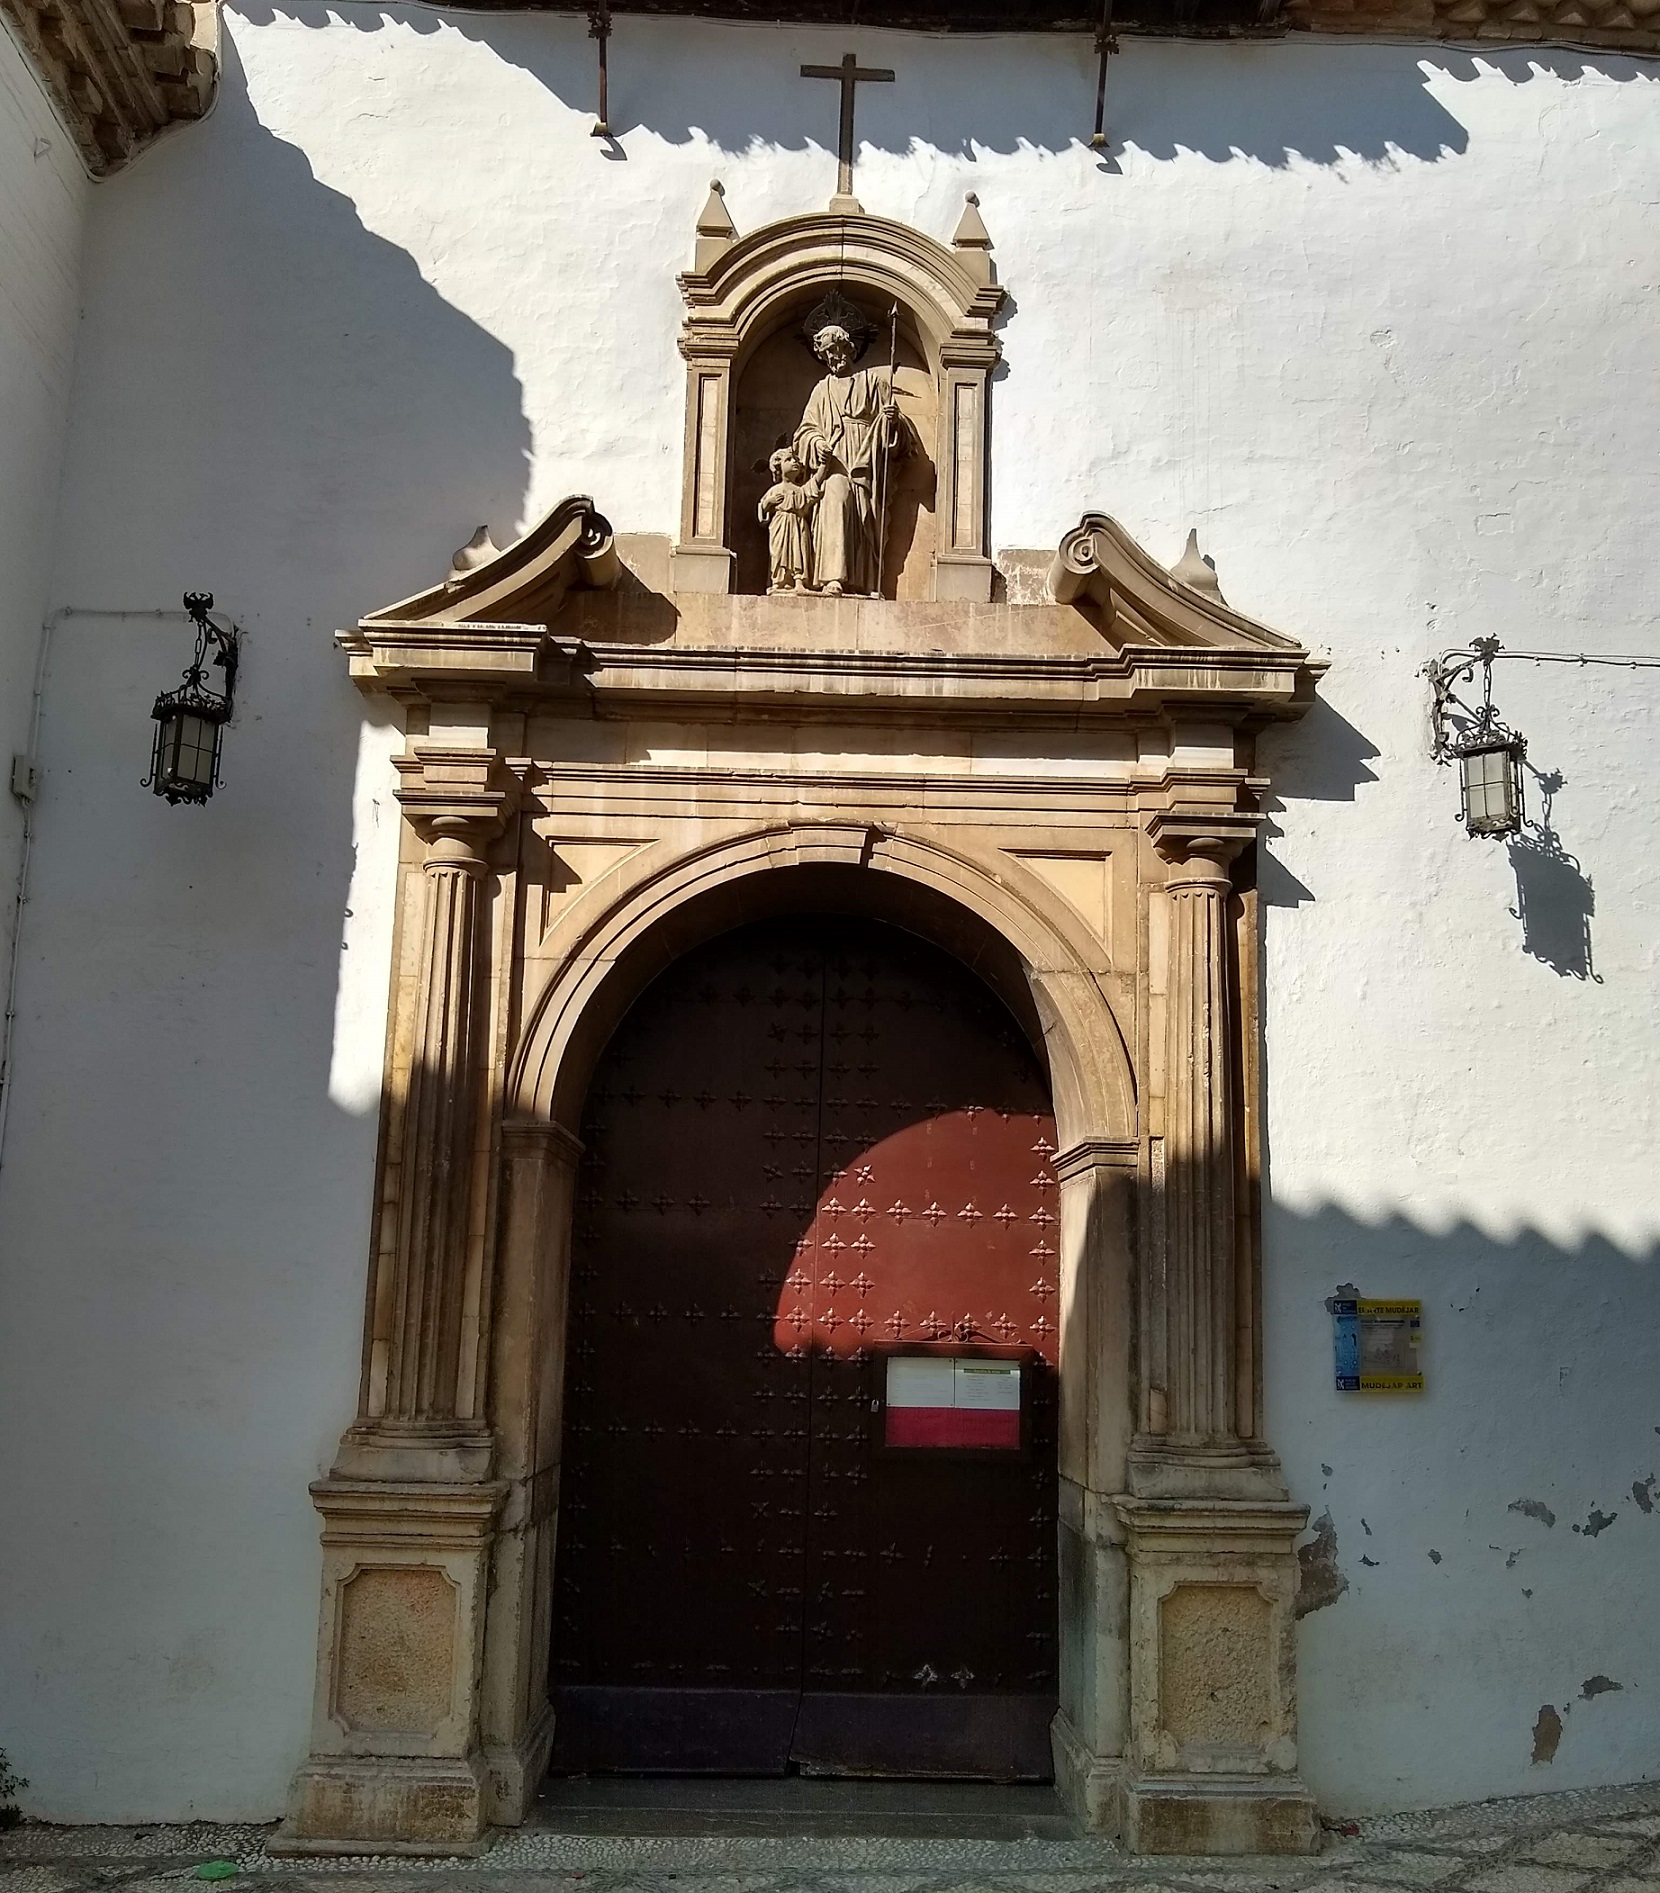arco-medio-punto: (525, 831, 1122, 1193), (716, 262, 956, 414)
fronton-partido: (328, 489, 1319, 724)
